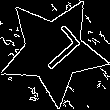L_SW: (25, 23, 82, 79)
